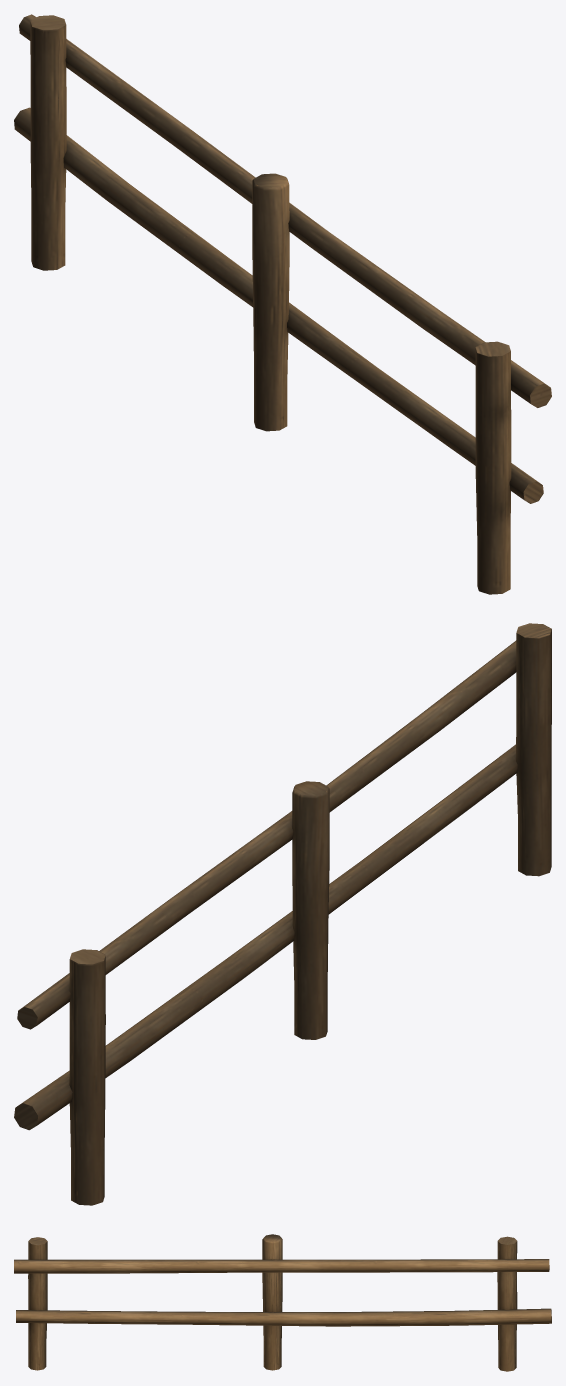
File: fence_3legs.glb
3 views of the same model, one above another, from view 1: azimuth 30°, elevation 25°; view 2: azimuth 150°, elevation 25°; view 3: azimuth 270°, elevation 25° (orthographic). The views are drawn at different scales.
Visible parts, largest first — view 1: fence3legs; view 2: fence3legs; view 3: fence3legs.
Boxes of the visible parts, x1,y1,x2,y2 form: fence3legs: (14, 14, 551, 594); fence3legs: (14, 623, 551, 1205); fence3legs: (14, 1234, 551, 1371).
Size of the model in its own units: 0.2981 by 1.33 by 5.
Materials: 1 (1 with a texture image).
